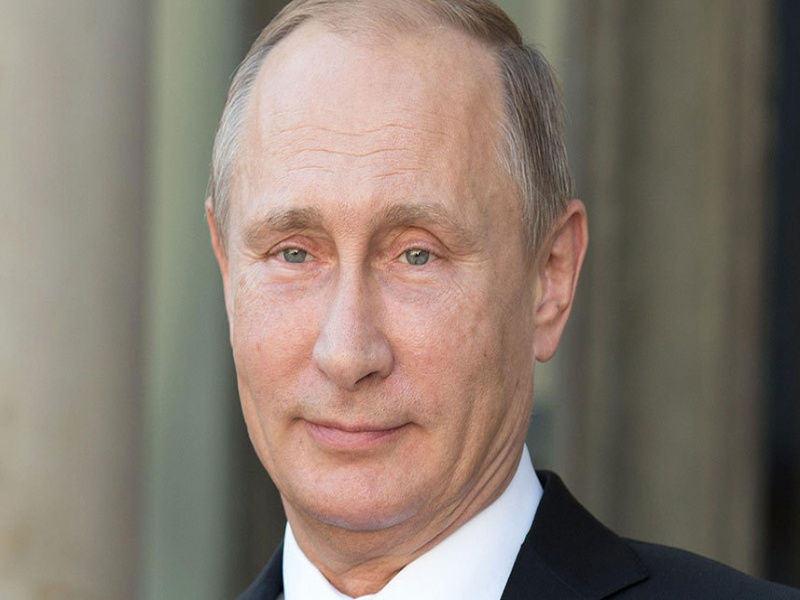TsisyArotava: (187, 25, 593, 547)
